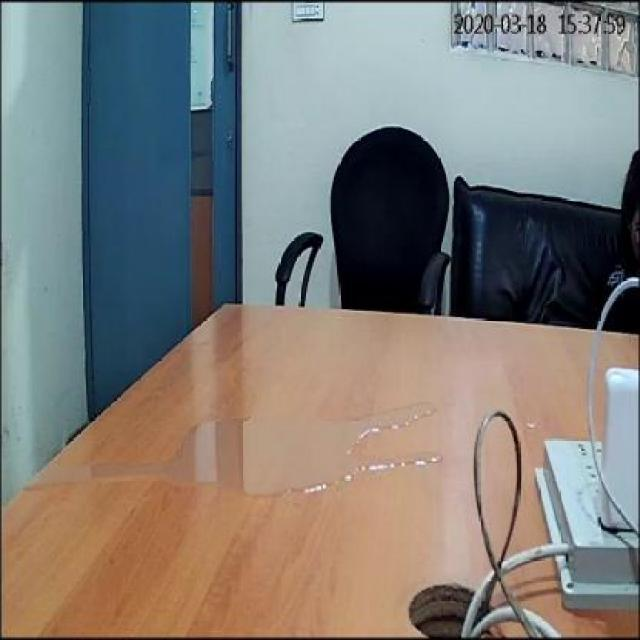spill: (34, 388, 446, 503)
